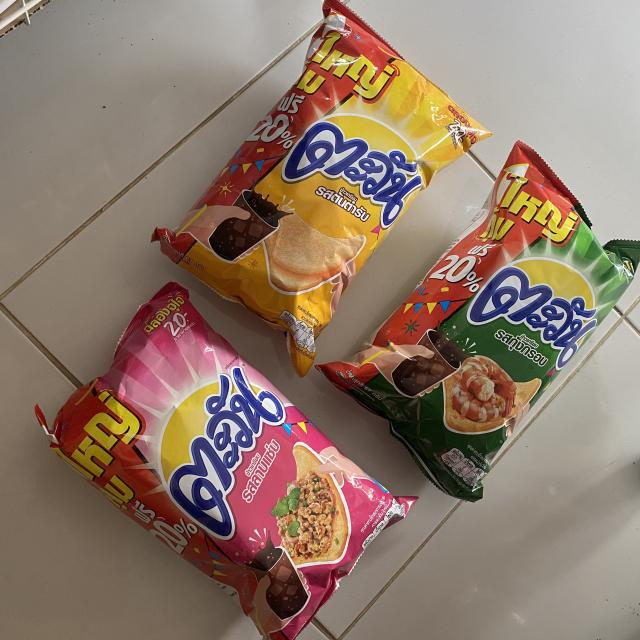plastik: (35, 282, 417, 640), (152, 0, 491, 376), (318, 141, 640, 501)
